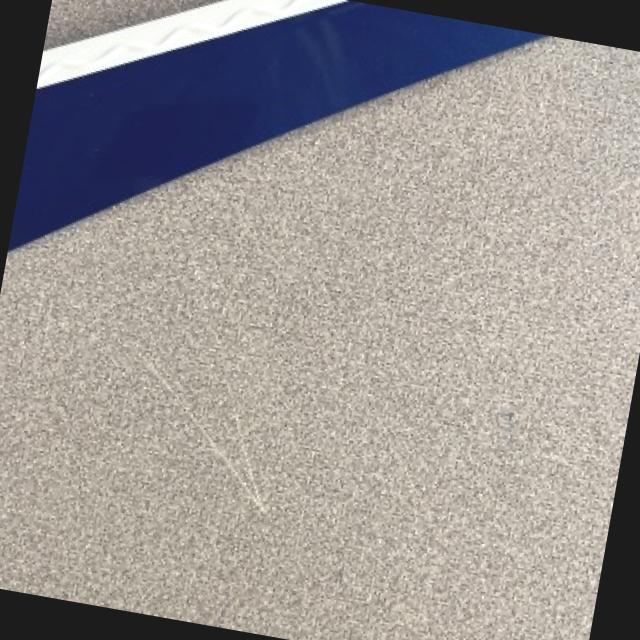healthy: (0, 34, 640, 640)
